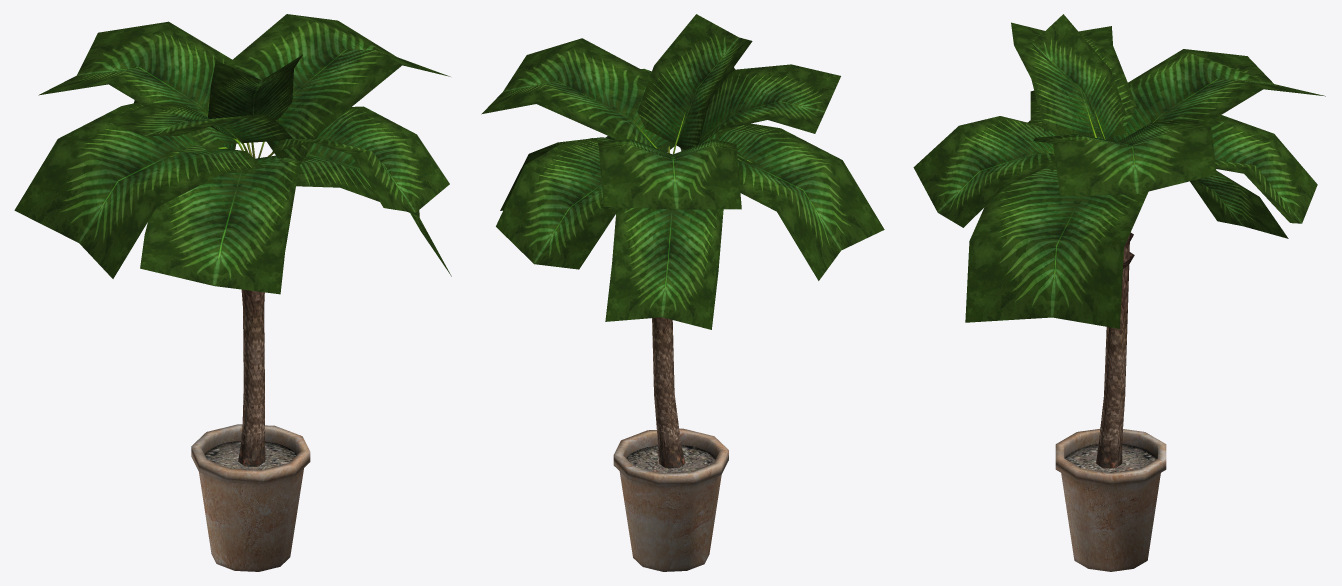
The model's file is Furniture_foliageplant_05_LOD1.fbx.
3 renders of one model, left to right at view 1: azimuth 30°, elevation 25°; view 2: azimuth 150°, elevation 25°; view 3: azimuth 270°, elevation 25°, orthographic. The views are drawn at different scales.
Visible parts, largest first — view 1: F_foliageplant_05_m4, F_foliageplant_05_m3; view 2: F_foliageplant_05_m4, F_foliageplant_05_m3; view 3: F_foliageplant_05_m4, F_foliageplant_05_m3.
Part boxes in pixels (bbox=[...]): F_foliageplant_05_m4: bbox=[14, 14, 451, 294]; F_foliageplant_05_m3: bbox=[191, 289, 310, 571]; F_foliageplant_05_m4: bbox=[481, 14, 884, 329]; F_foliageplant_05_m3: bbox=[613, 317, 728, 571]; F_foliageplant_05_m4: bbox=[913, 14, 1325, 328]; F_foliageplant_05_m3: bbox=[1055, 235, 1166, 571].
Size of the model in its own units: 1.4 by 1.91 by 1.4.
Materials: 2 (2 with a texture image).
